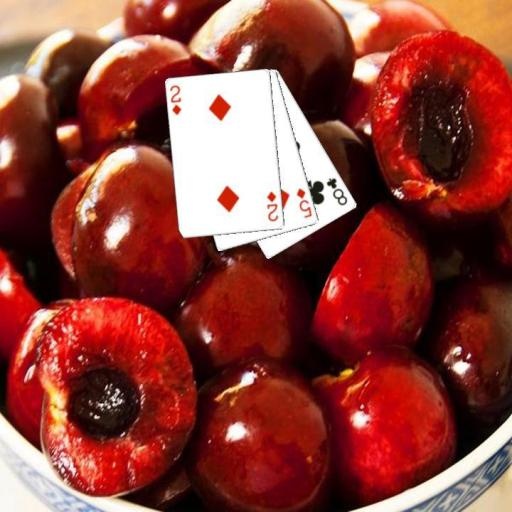2D: (264, 189, 280, 224), (167, 82, 183, 117)
5D: (294, 185, 314, 220)
8C: (324, 175, 349, 207)
